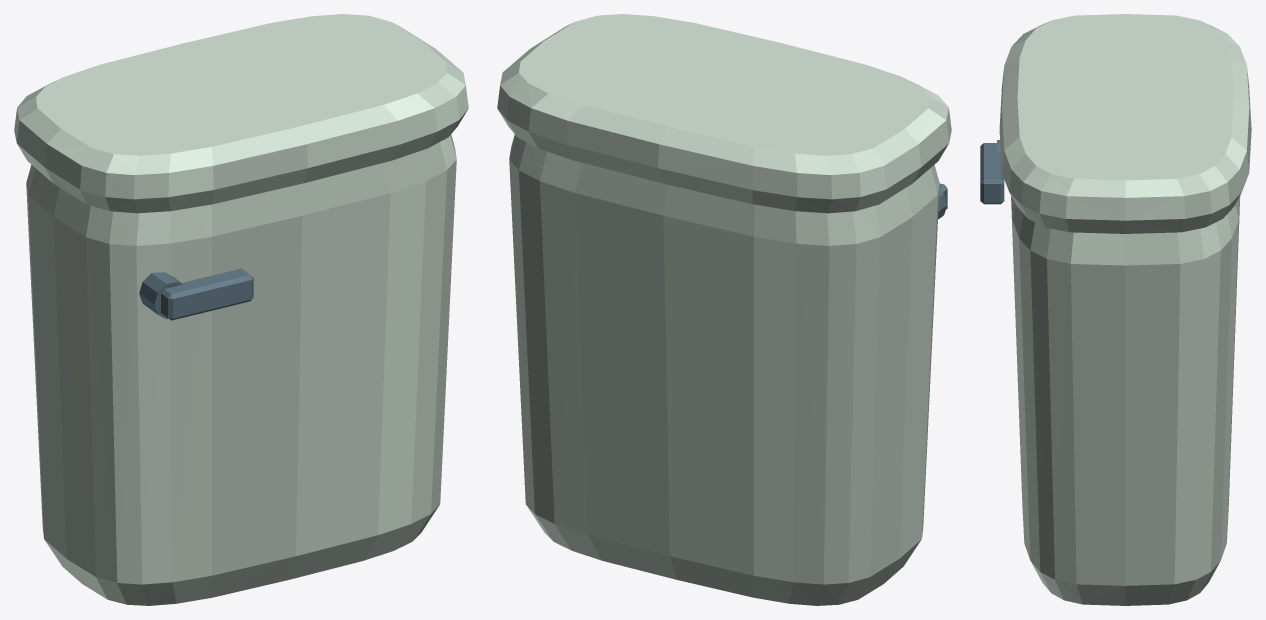
The model's file is EB_ClassicCistern.fbx.
3 views of the same model, side by side, from view 1: azimuth 30°, elevation 25°; view 2: azimuth 150°, elevation 25°; view 3: azimuth 270°, elevation 25° (orthographic). The views are drawn at different scales.
Parts seen in each view (by area): view 1: EB_ClassicCistern; view 2: EB_ClassicCistern; view 3: EB_ClassicCistern.
Part boxes in pixels (x1,y1,x2,y2): EB_ClassicCistern: [14, 14, 468, 605]; EB_ClassicCistern: [497, 14, 951, 605]; EB_ClassicCistern: [980, 14, 1251, 605].
Bounding box in the file's own units: 0.358 × 0.4 × 0.226.
